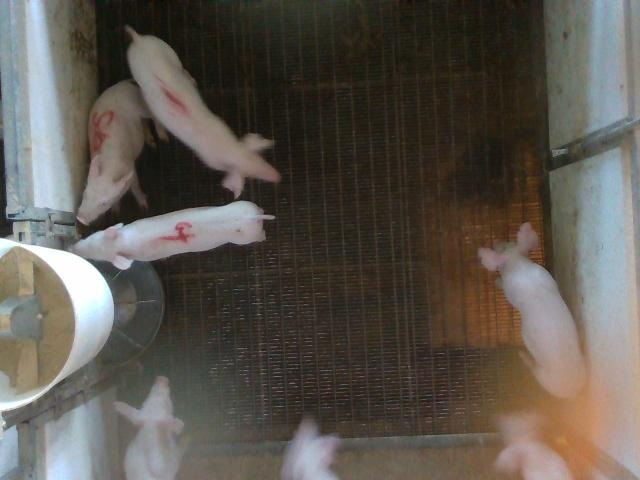pig-1: (126, 26, 281, 198)
pig-4: (70, 201, 274, 269)
pig-5: (78, 80, 150, 224)
